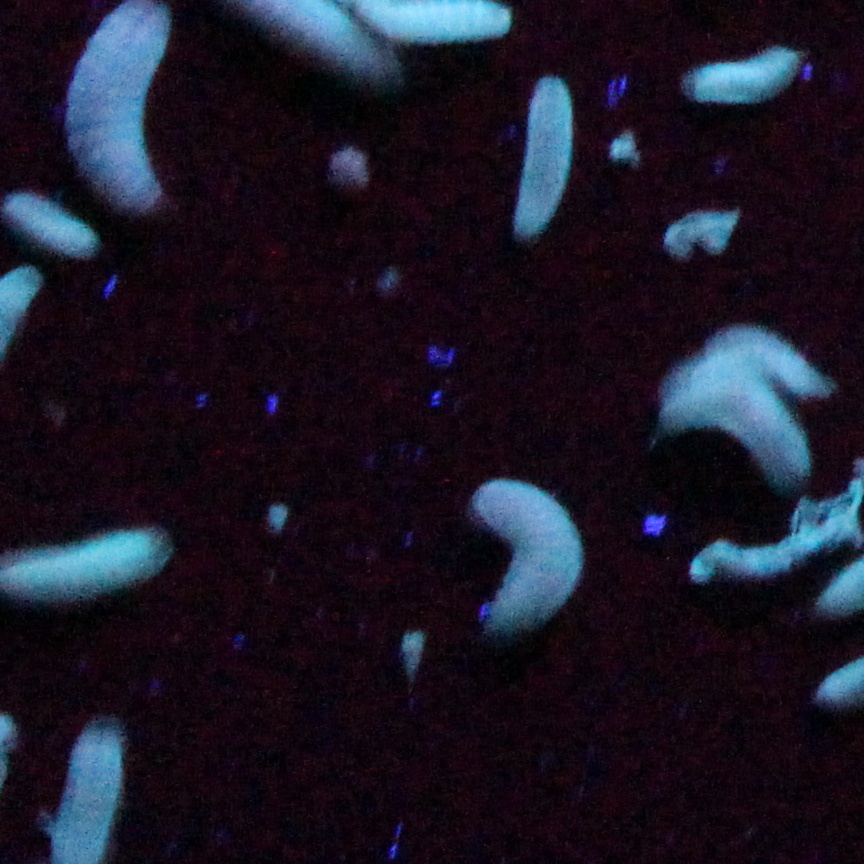larve: (468, 481, 589, 633), (658, 373, 810, 485), (2, 525, 177, 604), (514, 75, 570, 233), (683, 46, 800, 100), (8, 196, 100, 254), (370, 0, 514, 37)
